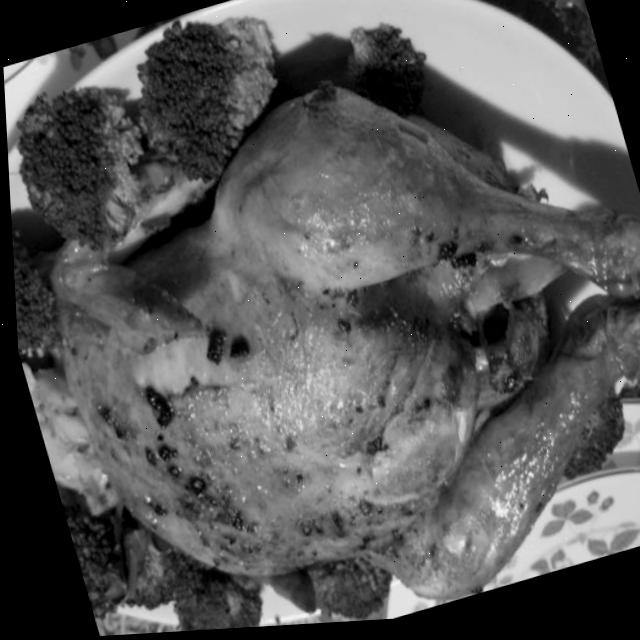鸡肉料理 含炸鸡: (1, 1, 640, 640)
